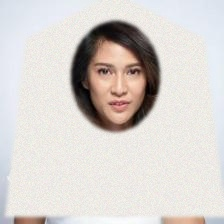Mukena: (5, 0, 224, 216)
